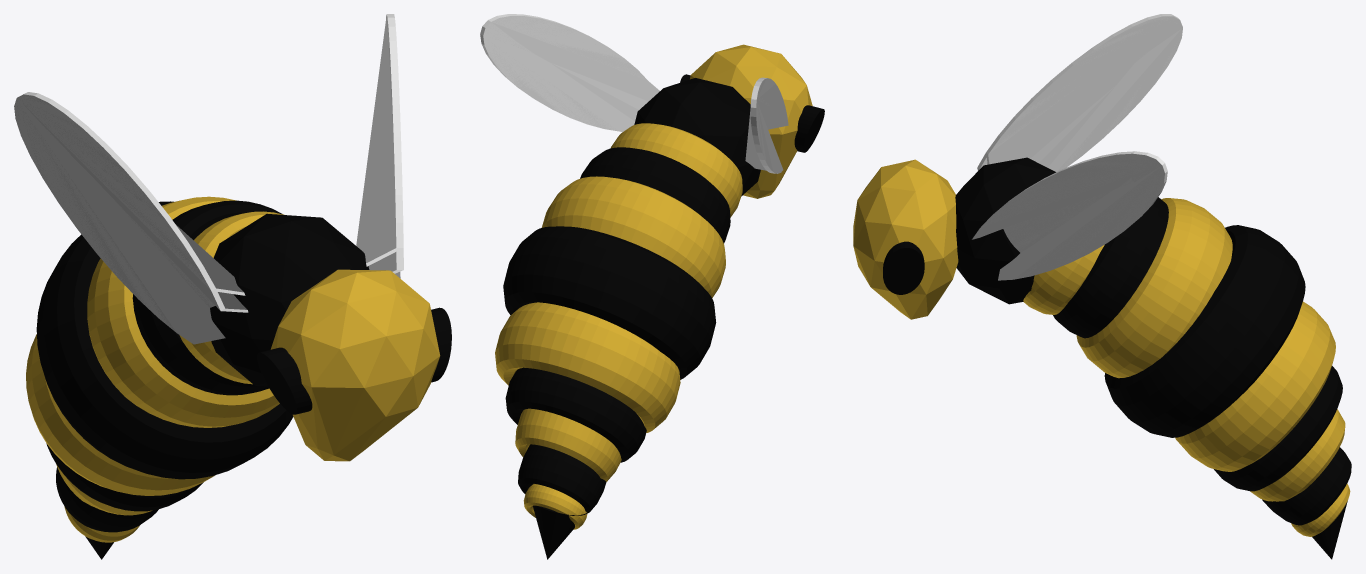
File: Queen bee.fbx
3 views of the same model, side by side, from view 1: azimuth 30°, elevation 25°; view 2: azimuth 150°, elevation 25°; view 3: azimuth 270°, elevation 25° (orthographic). The views are drawn at different scales.
Parts seen in each view (by area): view 1: Icosphere.002, Cylinder.001, Torus, Icosphere.001, Torus.006, Cylinder.003, Torus.001, Torus.007, Cylinder, Torus.008, Torus.002, Torus.004 (+2 smaller); view 2: Torus, Torus.001, Cylinder.003, Torus.006, Icosphere.001, Torus.002, Icosphere.002, Torus.007, Torus.008, Torus.003, Torus.004, Cylinder.001 (+3 smaller); view 3: Torus, Cylinder.001, Cylinder.003, Torus.006, Icosphere.002, Torus.001, Icosphere.001, Torus.007, Torus.002, Torus.004, Torus.003, Torus.008 (+3 smaller).
Boxes of the visible parts, x1,y1,x2,y2 form: Icosphere.002: [270, 269, 440, 461]; Cylinder.001: [14, 92, 248, 344]; Torus: [36, 201, 293, 479]; Icosphere.001: [210, 213, 369, 386]; Torus.006: [87, 196, 279, 427]; Cylinder.003: [356, 14, 403, 278]; Torus.001: [26, 334, 215, 495]; Torus.007: [132, 200, 283, 395]; Cylinder: [257, 307, 451, 414]; Torus.008: [179, 211, 284, 384]; Torus.002: [46, 443, 203, 511]; Torus.004: [56, 467, 158, 532]; Torus: [503, 226, 716, 379]; Torus.001: [495, 302, 680, 432]; Cylinder.003: [480, 14, 659, 132]; Torus.006: [541, 176, 725, 297]; Icosphere.001: [634, 78, 760, 196]; Torus.002: [505, 367, 646, 462]; Icosphere.002: [690, 44, 812, 198]; Torus.007: [580, 147, 730, 243]; Torus.008: [611, 123, 742, 217]; Torus.003: [515, 408, 621, 481]; Torus.004: [518, 444, 606, 512]; Cylinder.001: [745, 77, 788, 173]; Torus: [1104, 225, 1305, 437]; Cylinder.001: [977, 14, 1182, 171]; Cylinder.003: [972, 151, 1167, 280]; Torus.006: [1076, 198, 1232, 378]; Icosphere.002: [853, 159, 958, 319]; Torus.001: [1175, 301, 1335, 471]; Icosphere.001: [955, 157, 1055, 304]; Torus.007: [1053, 197, 1168, 338]; Torus.002: [1214, 366, 1342, 491]; Torus.004: [1262, 447, 1351, 525]; Torus.003: [1250, 409, 1345, 501]; Torus.008: [1023, 245, 1104, 314].
Size of the model in its own units: 376 by 566 by 536.
